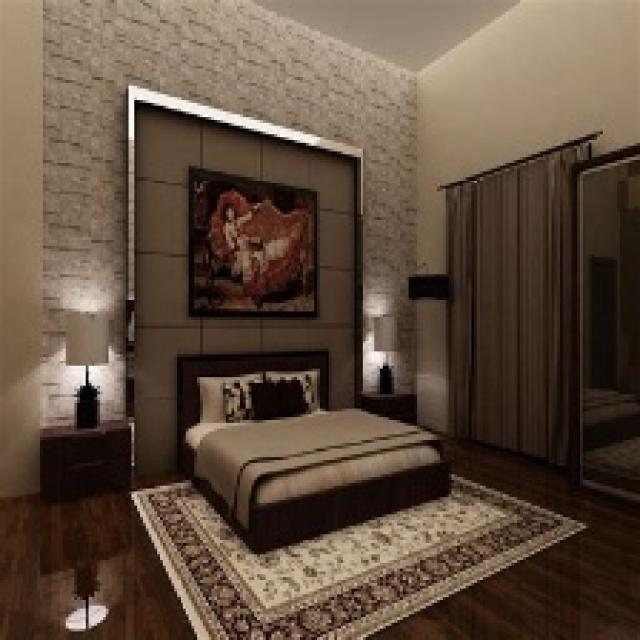Bed: (175, 348, 452, 552)
